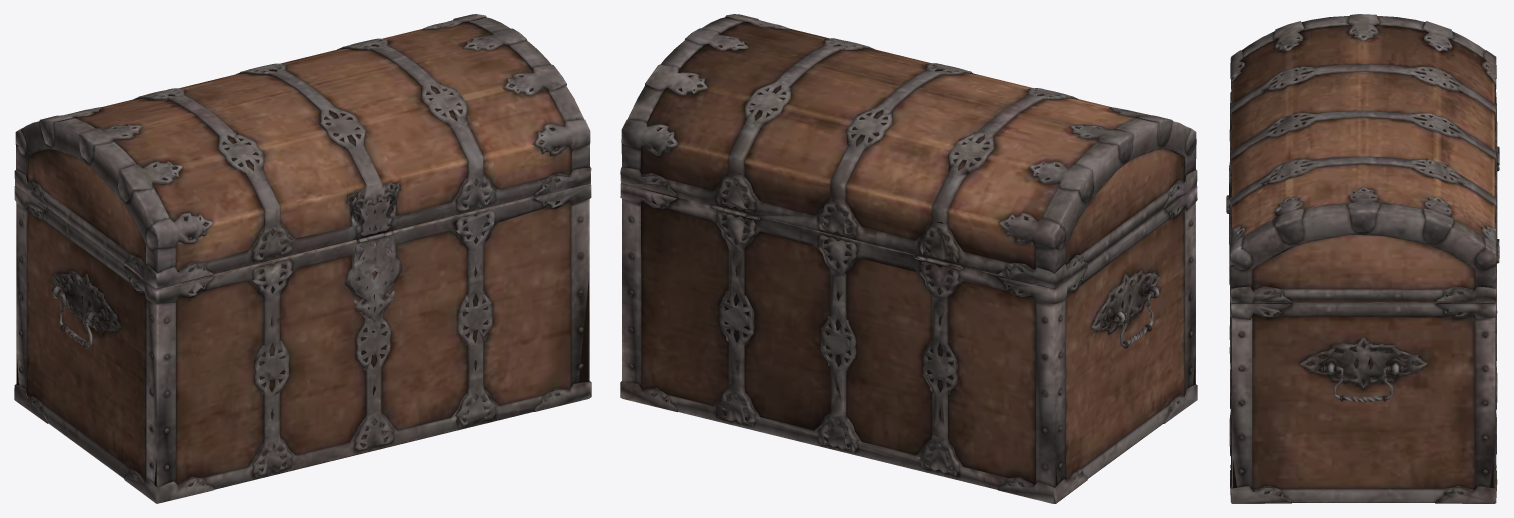
Rendered from treasure_chest.glb.
The picture shows the model from 3 angles, left to right: view 1: azimuth 30°, elevation 25°; view 2: azimuth 150°, elevation 25°; view 3: azimuth 270°, elevation 25°; orthographic projection. The views are drawn at different scales.
Parts seen in each view (by area): view 1: treasure_chest_bottom; view 2: treasure_chest_bottom; view 3: treasure_chest_bottom.
Part boxes in pixels (x1,y1,x2,y2): treasure_chest_bottom: [14, 14, 591, 503]; treasure_chest_bottom: [620, 14, 1197, 503]; treasure_chest_bottom: [1226, 14, 1499, 503].
Size of the model in its own units: 0.959 by 0.6187 by 0.5223.
1 material, 1 textured.
